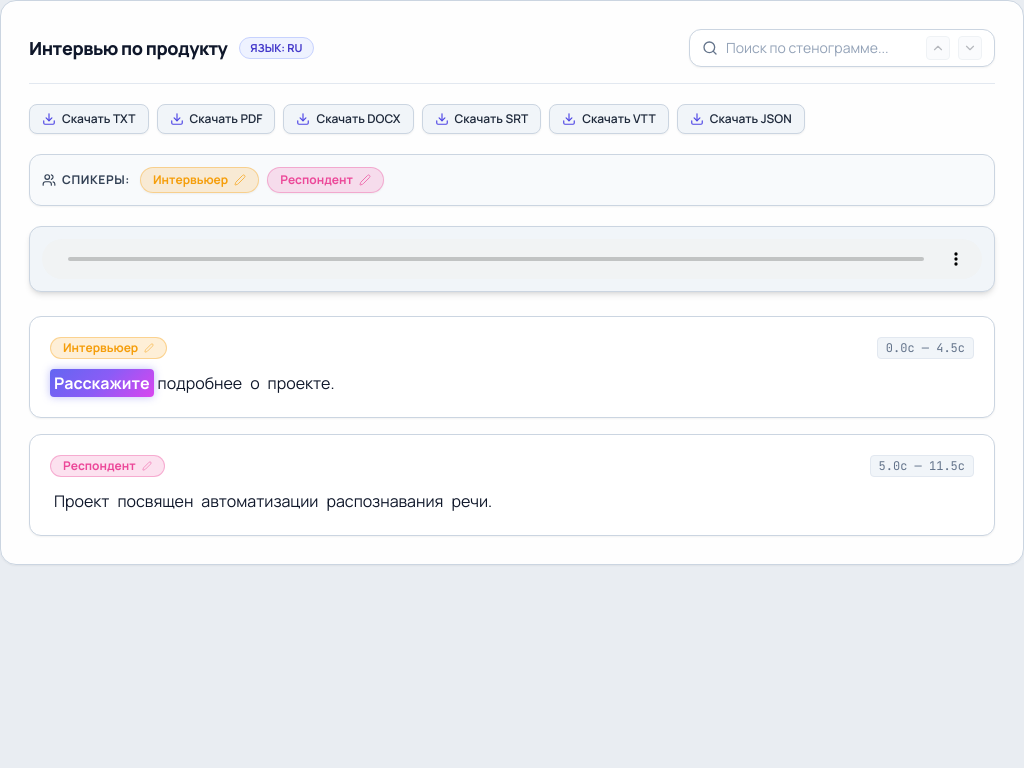
Test case: TranscriptPlayer component › should open speaker rename modal, apply quick suggestion and save renamed speaker
// Click speaker rename button on the first speaker chip
Click the button titled "Нажмите, чтобы переименовать Интервьюер" next to "Спикеры:" at (200, 180), box [140,167,259,193]
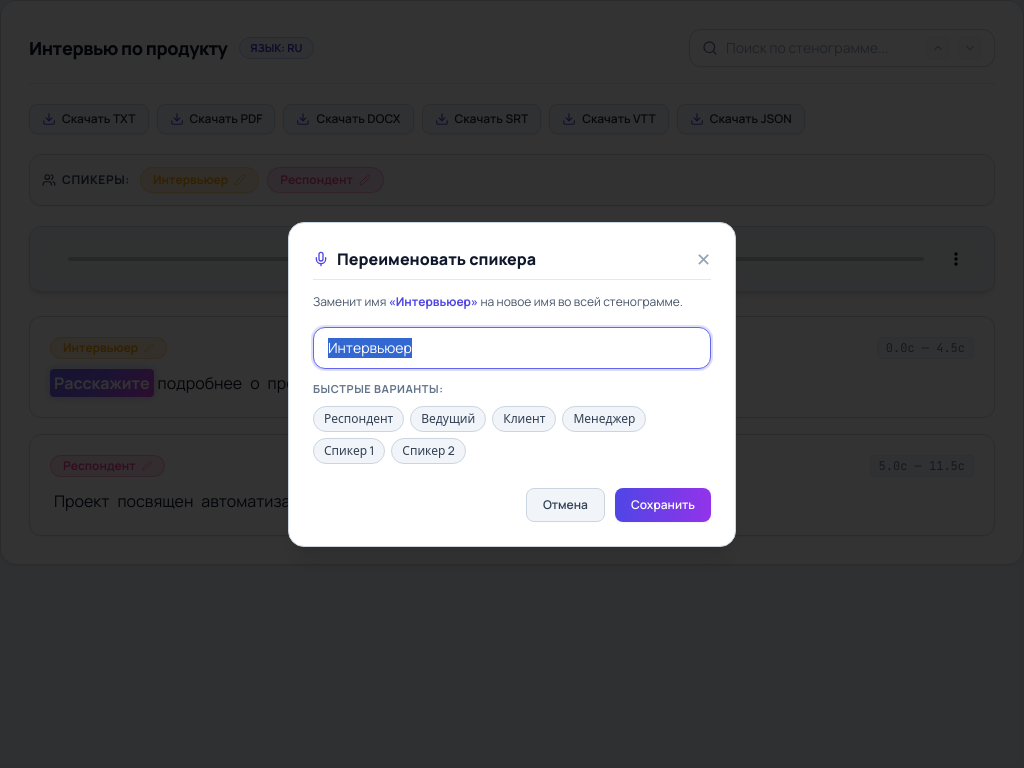
Expected: the heading "Переименовать спикера" is shown, [313,246,536,270]
// Click quick suggestion "Ведущий"
Click the button "Ведущий" at (448, 418), box [410,406,486,432]
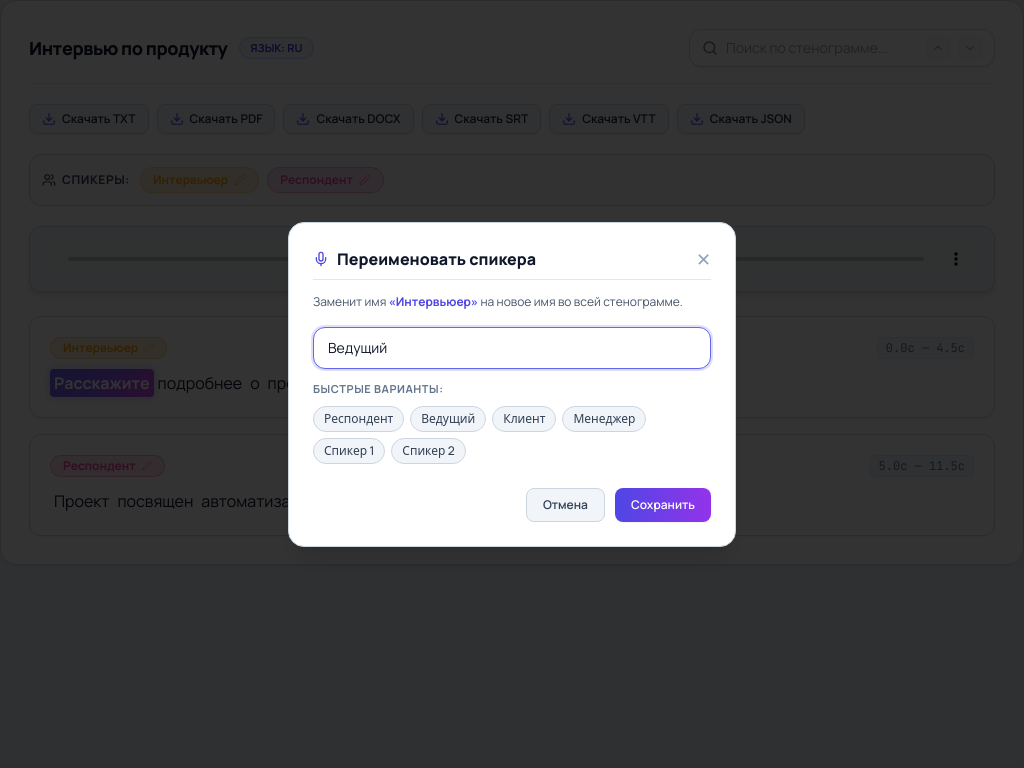
Click the button "Сохранить" at (663, 504), box [615,488,711,522]
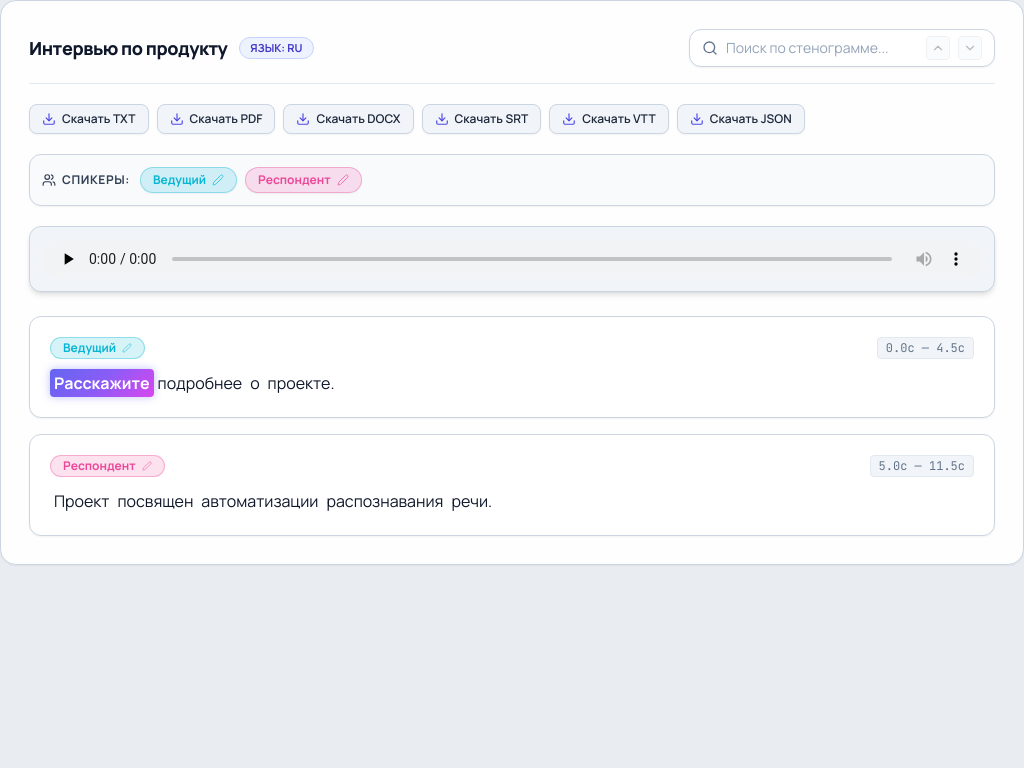
Expected: the text "Ведущий" next to "Спикеры:" is shown, [153,171,206,188]
